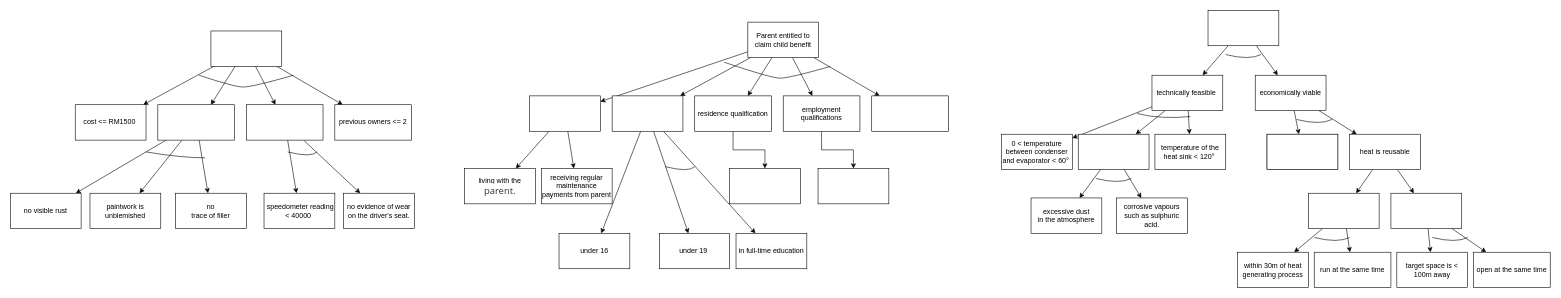
The diagram is 1561 pixels wide and 298 high, and some of its shapes have lost their labels. The centre of each missing label's shape, as x and y in pixels:
age qualification: the point at 647,113
car good buy: the point at 246,48
child is dependent: the point at 564,113
Child is not working: the point at 853,186
covered < 40000 miles: the point at 284,122
for another industrial process: the point at 1343,211
for in space heating: the point at 1426,211
has sound bodywork: the point at 196,122
heat pump be in operation >= 4000 hrs/ year: the point at 1302,152
no significant adverse factors present.: the point at 1113,152
no-one else is claiming benefit for the child: the point at 909,113
parent and child is MY resident for 6 months from the last 12 months: the point at 764,186
worth installing heat pump: the point at 1243,28
